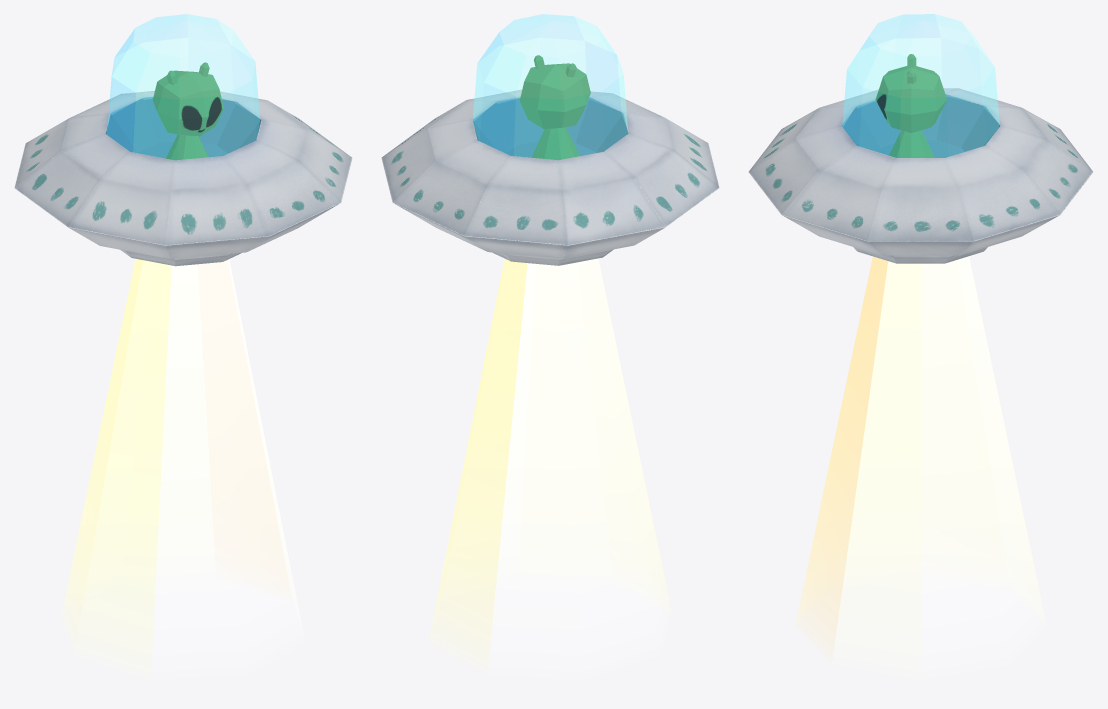
File: ufo_3.glb
3 views of the same model, side by side, from view 1: azimuth 30°, elevation 25°; view 2: azimuth 150°, elevation 25°; view 3: azimuth 270°, elevation 25° (orthographic).
Parts seen in each view (by area): view 1: Beam, UFO, dome, Alien; view 2: Beam, UFO, dome, Alien; view 3: Beam, UFO, dome, Alien.
Part boxes in pixels (x1,y1,x2,y2): Beam: (62,259,303,671); UFO: (14,91,352,266); dome: (107,14,259,159); Alien: (152,62,223,160); Beam: (430,258,671,671); UFO: (381,89,719,265); dome: (473,14,627,159); Alien: (519,55,590,160); Beam: (796,256,1045,671); UFO: (748,88,1093,263); dome: (842,14,999,157); Alien: (875,54,946,157).
Bounding box in the file's own units: 1.9 × 3.96 × 2.
4 materials, 3 textured.
